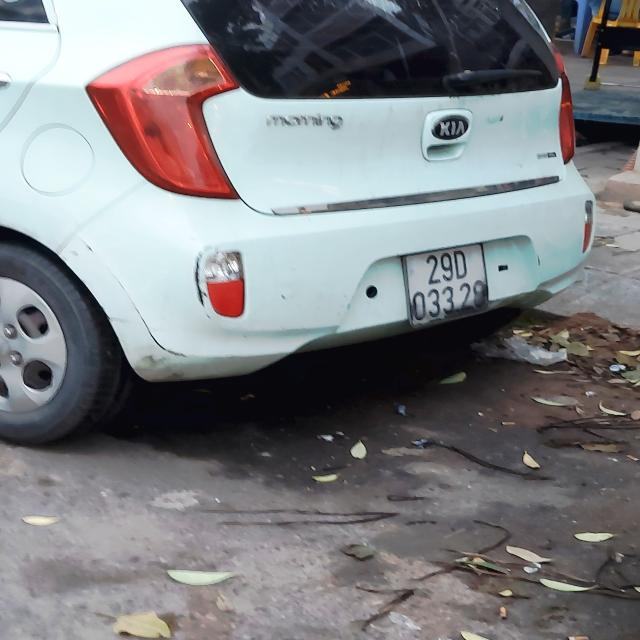license_plate: (396, 239, 499, 330)
